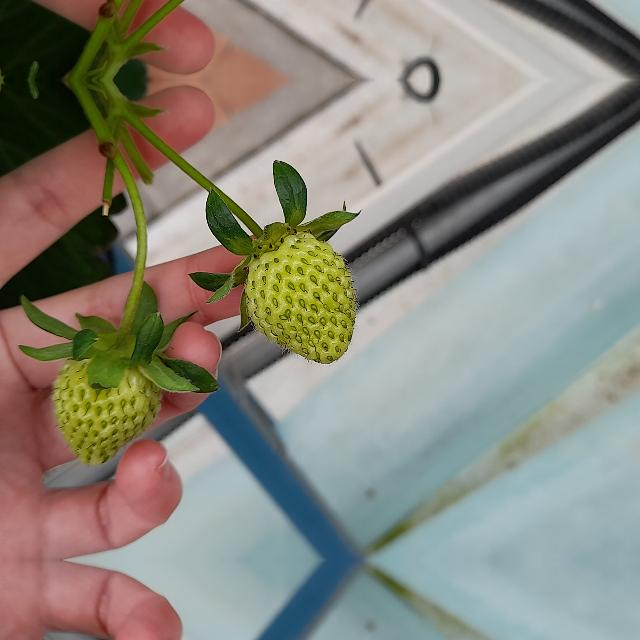Health_25: (244, 232, 356, 364), (52, 345, 162, 469)
